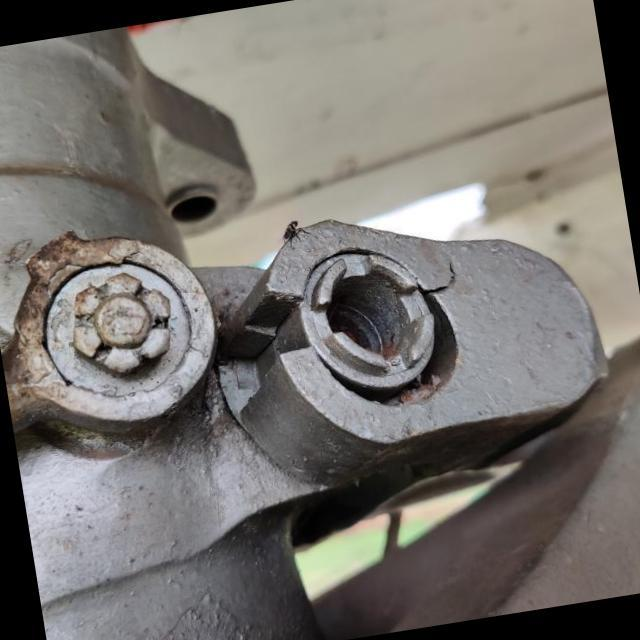Rupture: (416, 252, 469, 304)
